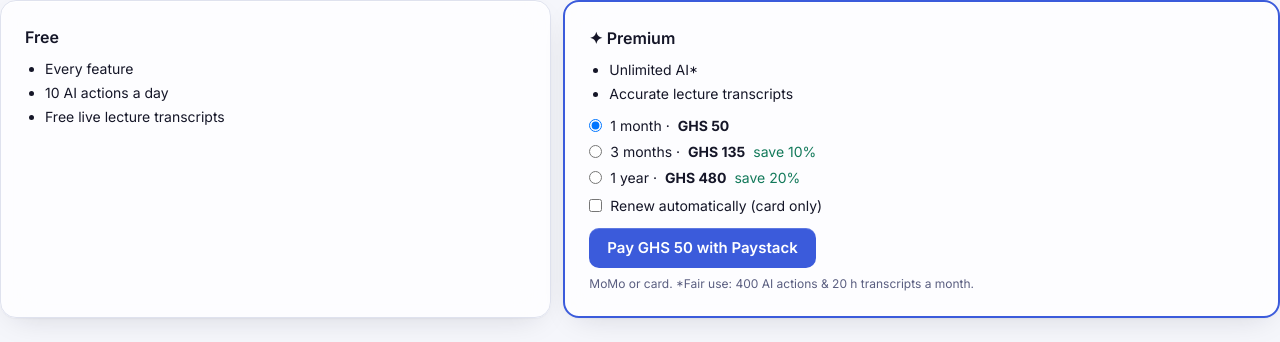
Test: PlanPicker › disables auto-renew for 3 months
Click the radio button labelled "3 months · GHS 135 save 10%" at (596, 152), box [589,145,602,158]
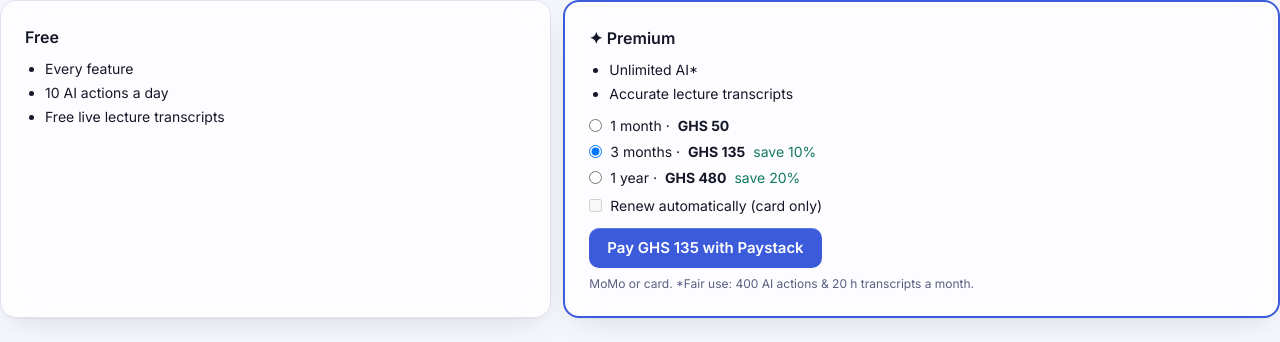
Result: the checkbox labelled "Renew automatically (card only)" is disabled at [589,199,602,212]
